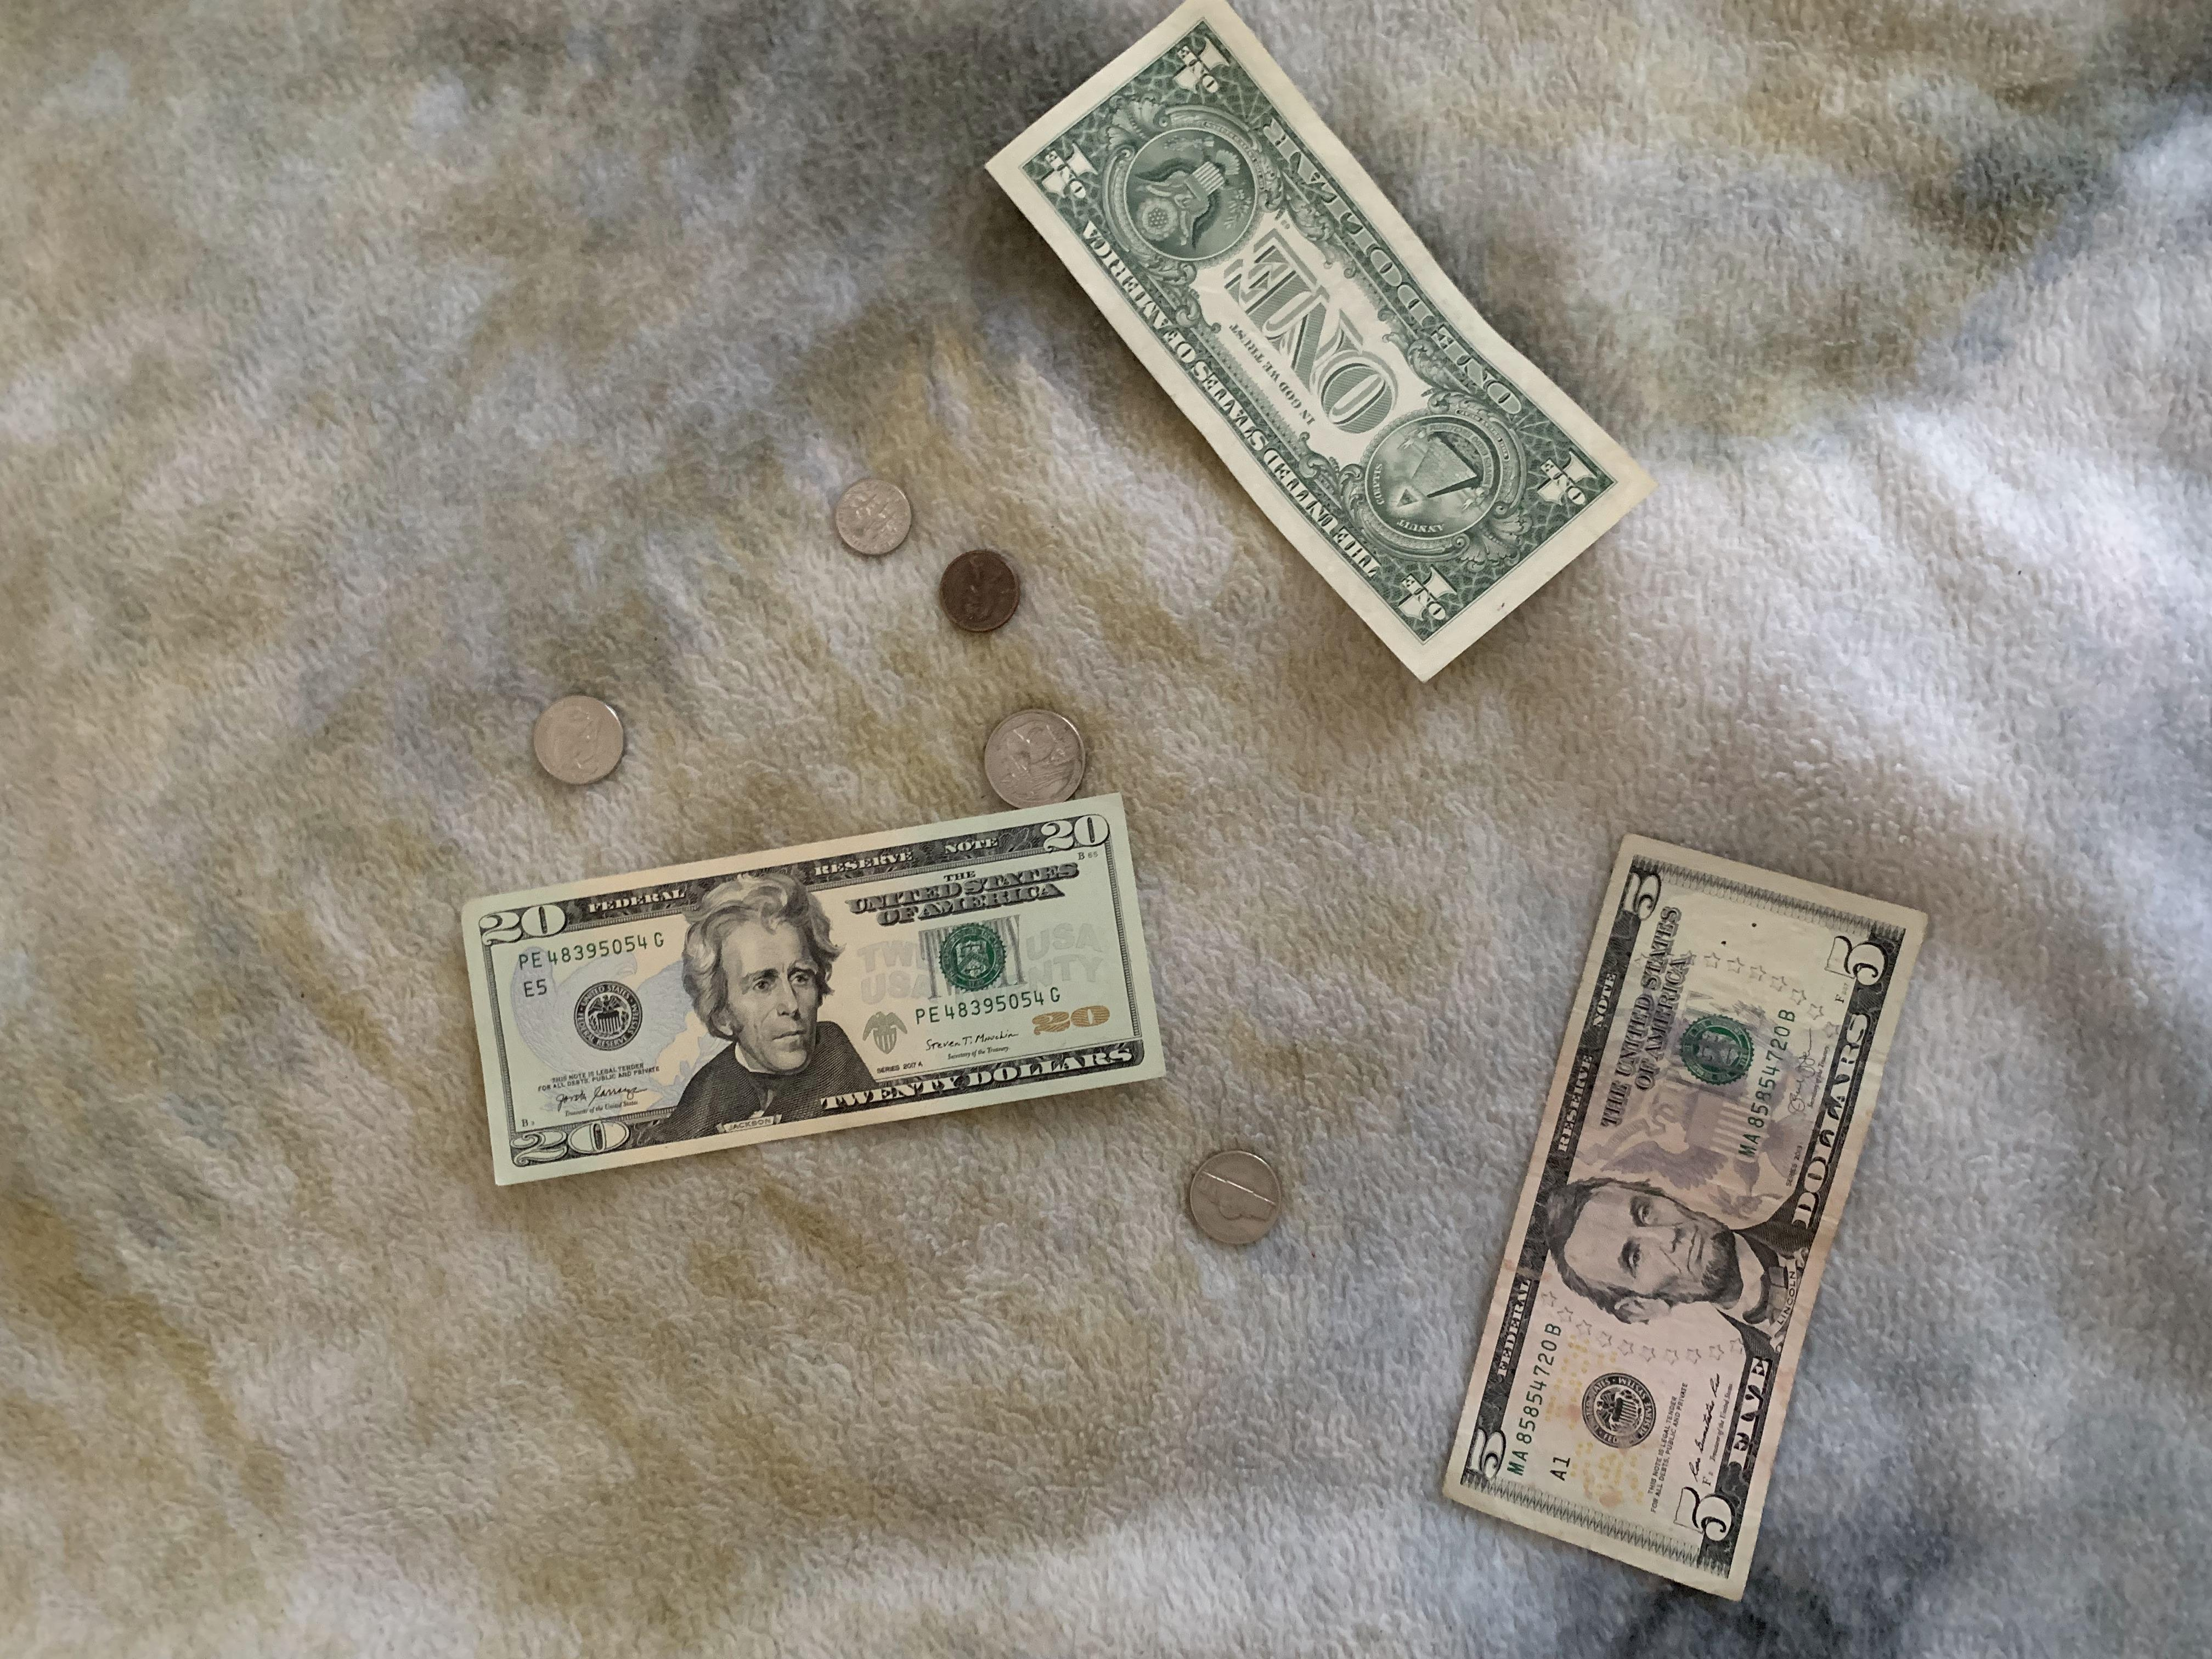Dime: (820, 474, 921, 561)
FiveBill: (1425, 826, 1933, 1601)
Nickel: (1184, 1141, 1291, 1246), (526, 688, 627, 786)
OneBill: (989, 2, 1655, 680)
Penny: (930, 547, 1021, 638)
Quarter: (977, 697, 1090, 807)
TwentyBill: (458, 793, 1160, 1197)
